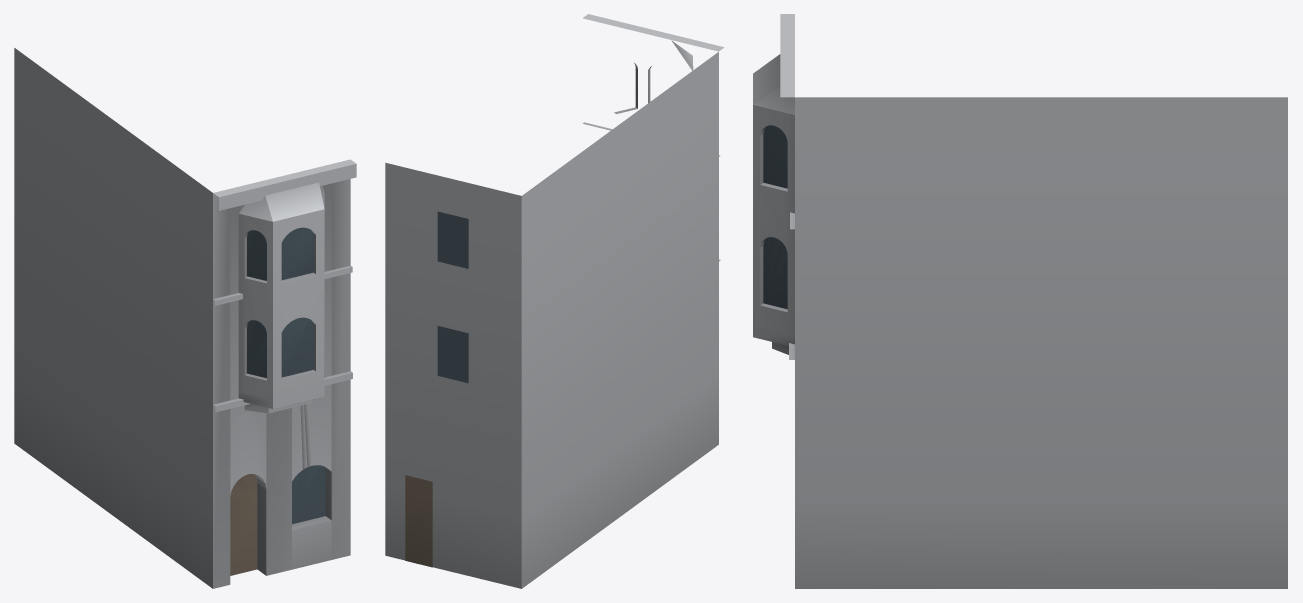
The model's file is sg_house_oriel.glb.
The picture shows the model from 3 angles, left to right: view 1: azimuth 30°, elevation 25°; view 2: azimuth 150°, elevation 25°; view 3: azimuth 270°, elevation 25°; orthographic projection. The views are drawn at different scales.
Visible parts, largest first — view 1: sg_house_oriel_SG_Stone, sg_house_oriel_SG_Glass, sg_house_oriel_SG_Joinery; view 2: sg_house_oriel_SG_Stone, sg_house_oriel_SG_Glass, sg_house_oriel_SG_Joinery; view 3: sg_house_oriel_SG_Stone, sg_house_oriel_SG_Glass.
Boxes of the visible parts, <box> form: sg_house_oriel_SG_Stone: <box>14,48,356,588</box>; sg_house_oriel_SG_Glass: <box>247,227,325,524</box>; sg_house_oriel_SG_Joinery: <box>230,474,257,575</box>; sg_house_oriel_SG_Stone: <box>385,14,724,588</box>; sg_house_oriel_SG_Glass: <box>437,211,468,383</box>; sg_house_oriel_SG_Joinery: <box>405,475,432,567</box>; sg_house_oriel_SG_Stone: <box>753,14,1287,588</box>; sg_house_oriel_SG_Glass: <box>763,125,787,309</box>.
Bounding box in the file's own units: 4 × 11 × 10.87.
